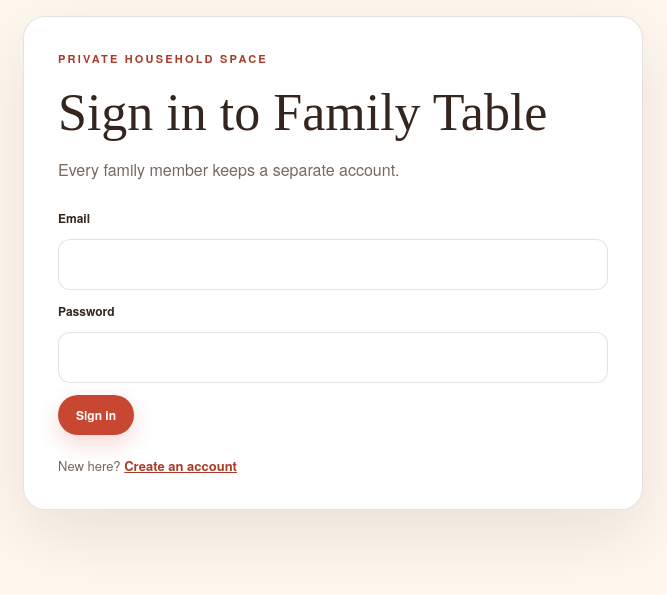
it: says so when the password is wrong
This screenshot has width=667, height=595.
In the field labelled "Email": [333, 264] box [58,239,608,290], type "cook@example.com"
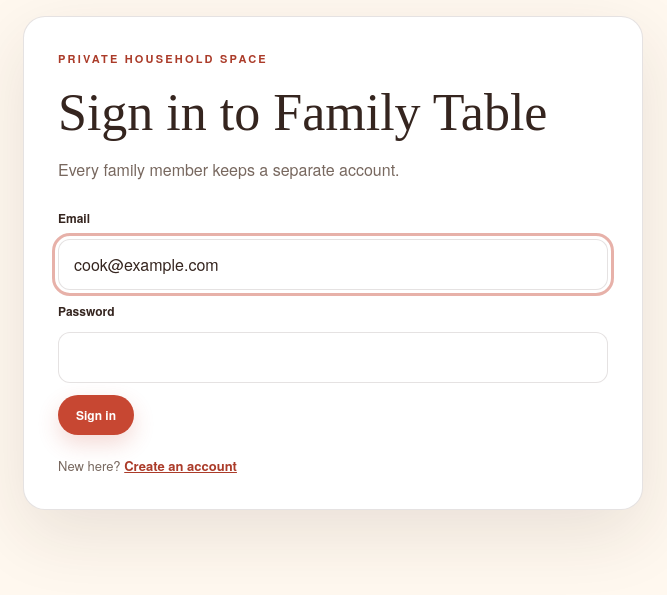
In the password field labelled "Password": [333, 358] box [58,332,608,383], type "wrong horse"
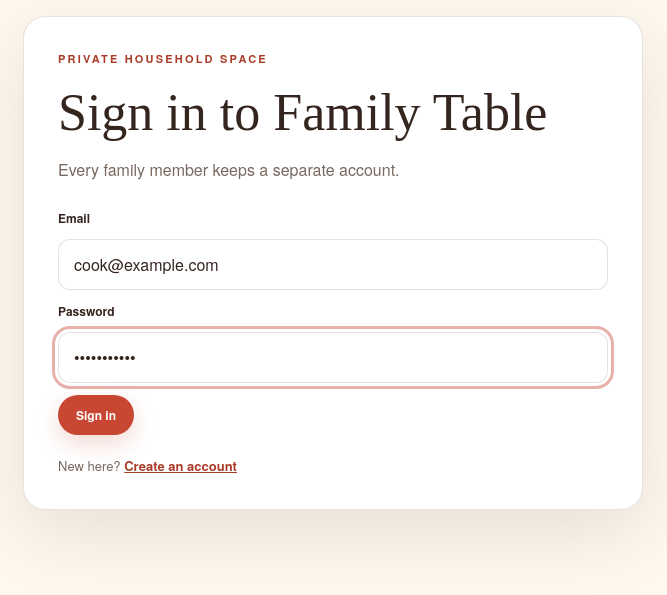
Click the button "Sign in": [96, 415] box [58,395,134,435]
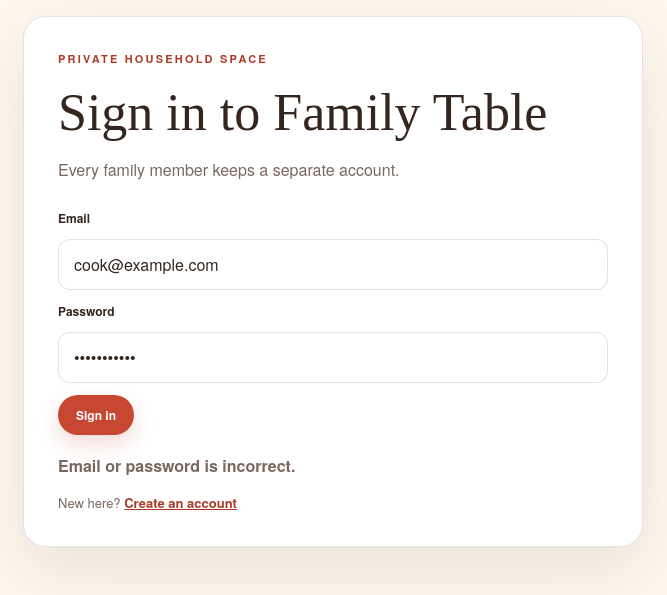
Now the message reads "Email or password is incorrect.", box [58,454,295,477]
